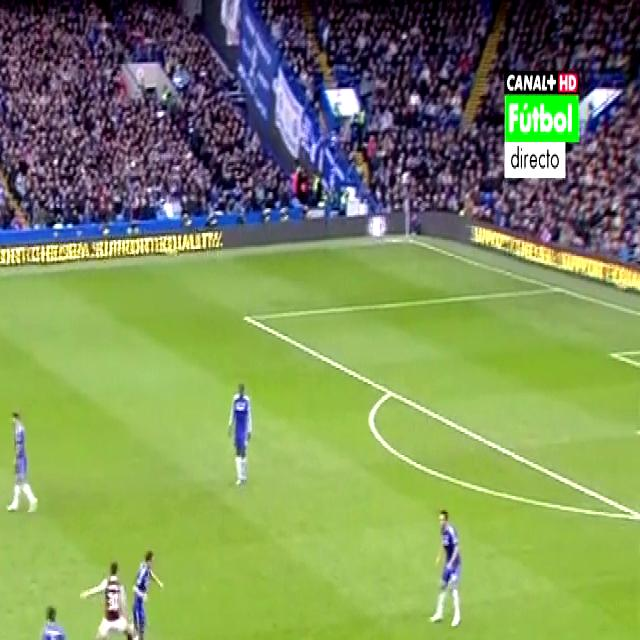ball: (166, 627, 183, 640)
soccer-player: (429, 495, 468, 631), (4, 398, 41, 526), (82, 553, 131, 640), (222, 372, 256, 493), (127, 540, 167, 640), (30, 597, 72, 640)
